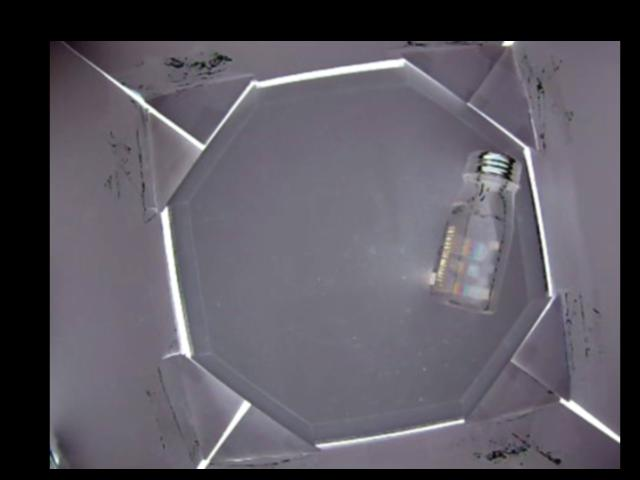Bottle: (426, 150, 523, 314)
